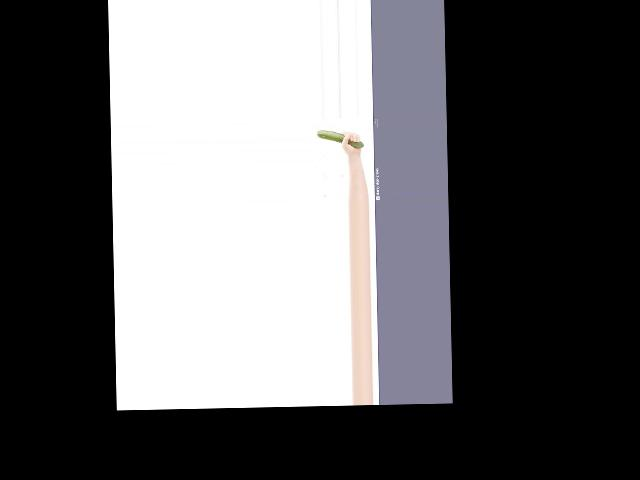cucumber: (317, 128, 364, 148)
